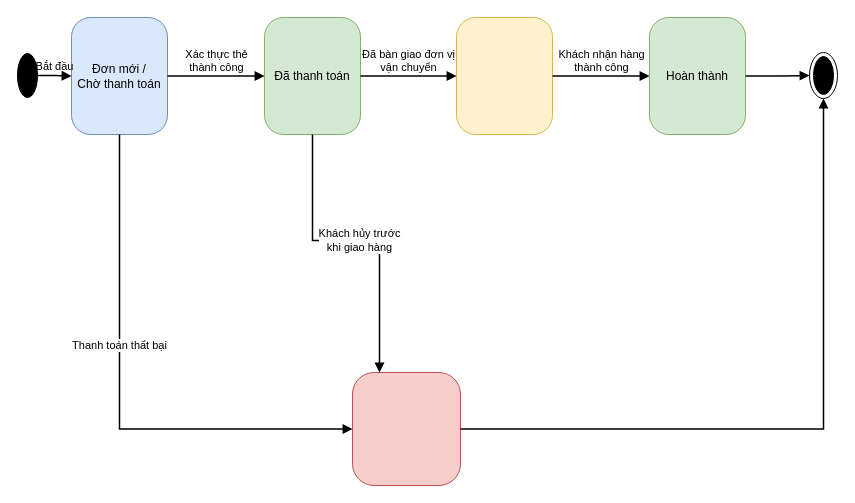
This 855x503 diagram has some shape labels left out. The shapes that lost their labels are listed below. From the top down, each one's centre as x and y in pixels, then its label:
At (x=504, y=75): "Đang giao hàng".
At (x=406, y=429): "Hủy đơn hàng".
